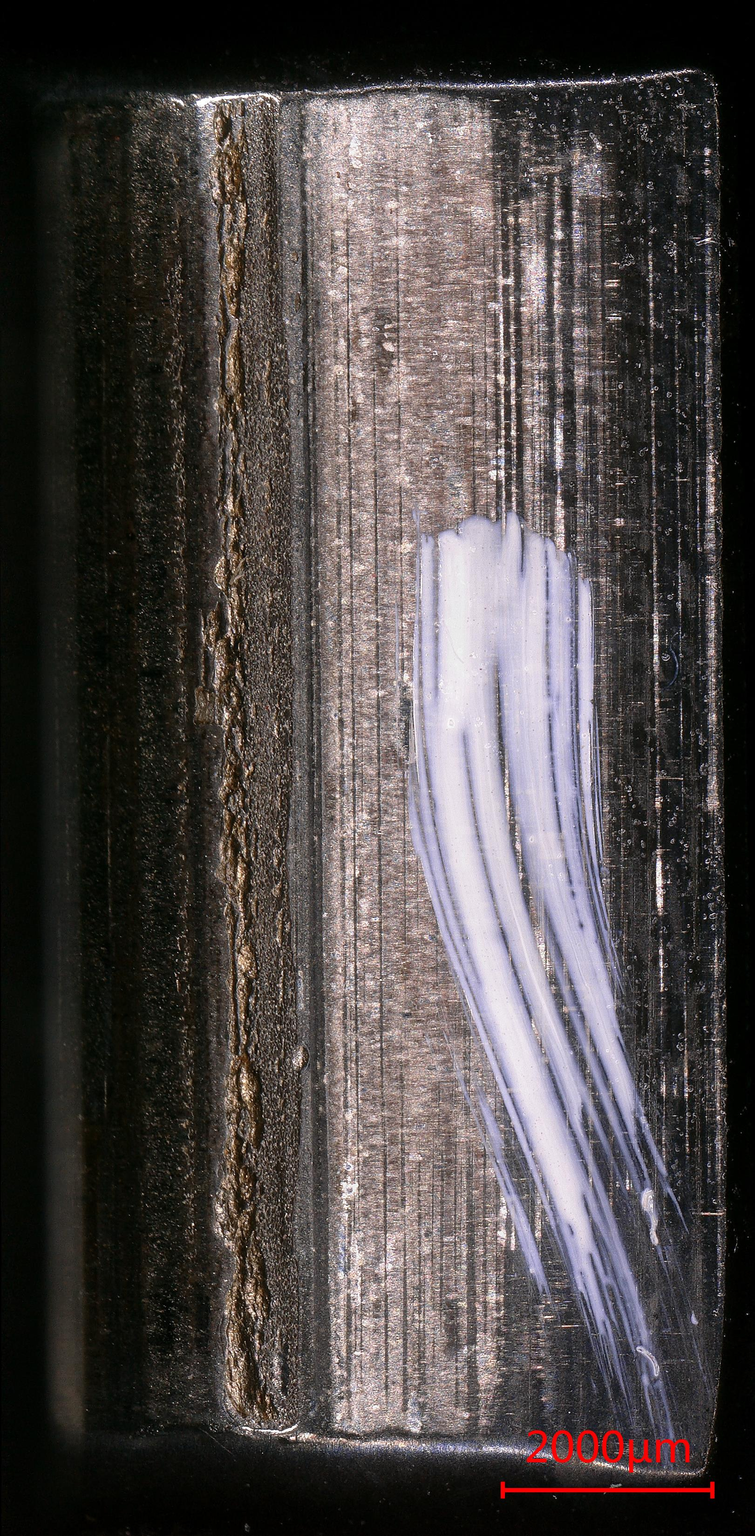Abrasion: (41, 102, 745, 1468)
